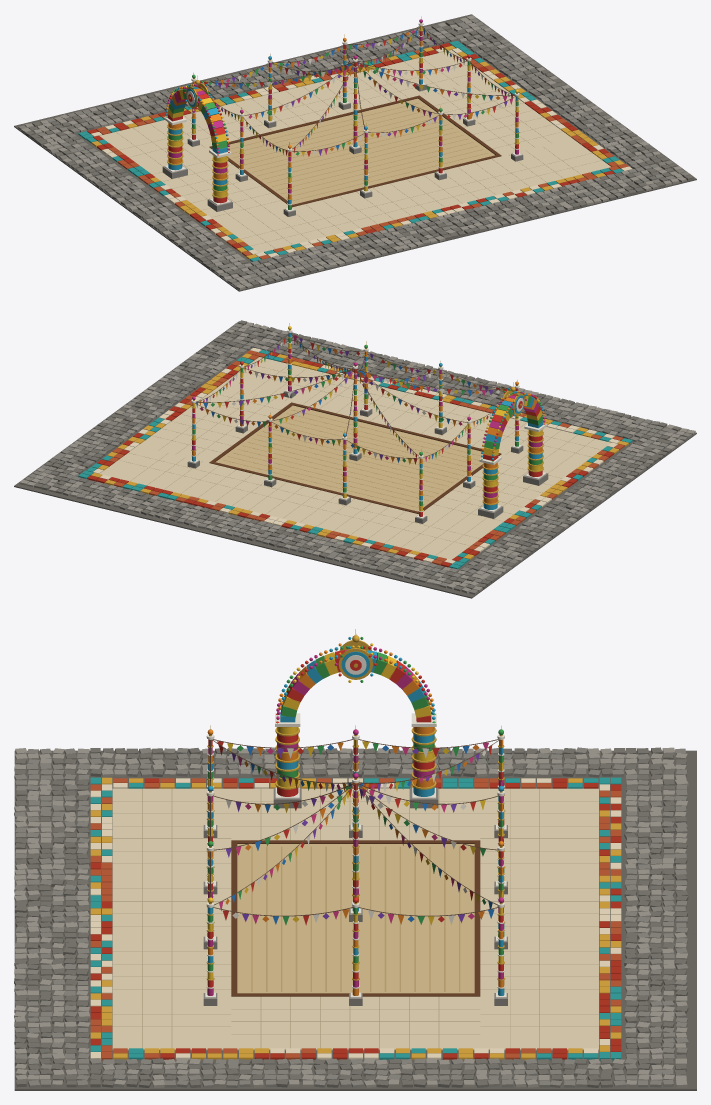
Rendered from plaza-baile-carnaval.glb.
3 views of the same model, one above another, from view 1: azimuth 30°, elevation 25°; view 2: azimuth 150°, elevation 25°; view 3: azimuth 270°, elevation 25° (orthographic). The views are drawn at different scales.
Visible parts, largest first — view 1: Plaza_Baile_Carnaval_BaldosaCrema, Plaza_Baile_Carnaval_Arena, Plaza_Baile_Carnaval_AdoquinGris2, Plaza_Baile_Carnaval_AdoquinGris1, Plaza_Baile_Carnaval_AdoquinGris3, Plaza_Baile_Carnaval_BaseOscura, Plaza_Baile_Carnaval_JuntaBaldosa, Plaza_Baile_Carnaval_ArenaSurco, Plaza_Baile_Carnaval_LadrilloMostaza, Plaza_Baile_Carnaval_LadrilloTurquesa, Plaza_Baile_Carnaval_LadrilloCrema, Plaza_Baile_Carnaval_LadrilloTerracota (+19 smaller); view 2: Plaza_Baile_Carnaval_BaldosaCrema, Plaza_Baile_Carnaval_Arena, Plaza_Baile_Carnaval_AdoquinGris1, Plaza_Baile_Carnaval_AdoquinGris2, Plaza_Baile_Carnaval_AdoquinGris3, Plaza_Baile_Carnaval_BaseOscura, Plaza_Baile_Carnaval_JuntaBaldosa, Plaza_Baile_Carnaval_ArenaSurco, Plaza_Baile_Carnaval_LadrilloMostaza, Plaza_Baile_Carnaval_LadrilloTurquesa, Plaza_Baile_Carnaval_LadrilloRojo, Plaza_Baile_Carnaval_LadrilloTerracota (+17 smaller); view 3: Plaza_Baile_Carnaval_BaldosaCrema, Plaza_Baile_Carnaval_Arena, Plaza_Baile_Carnaval_AdoquinGris1, Plaza_Baile_Carnaval_AdoquinGris2, Plaza_Baile_Carnaval_AdoquinGris3, Plaza_Baile_Carnaval_BaseOscura, Plaza_Baile_Carnaval_JuntaBaldosa, Plaza_Baile_Carnaval_LadrilloMostaza, Plaza_Baile_Carnaval_LadrilloTurquesa, Plaza_Baile_Carnaval_LadrilloTerracota, Plaza_Baile_Carnaval_LadrilloCrema, Plaza_Baile_Carnaval_LadrilloRojo (+17 smaller).
Part boxes in pixels (x1=…): Plaza_Baile_Carnaval_BaldosaCrema: x1=100, y1=50, x2=610, y2=252; Plaza_Baile_Carnaval_Arena: x1=227, y1=98, x2=494, y2=204; Plaza_Baile_Carnaval_AdoquinGris2: x1=25, y1=19, x2=693, y2=286; Plaza_Baile_Carnaval_AdoquinGris1: x1=18, y1=19, x2=690, y2=286; Plaza_Baile_Carnaval_AdoquinGris3: x1=21, y1=15, x2=686, y2=290; Plaza_Baile_Carnaval_BaseOscura: x1=14, y1=14, x2=696, y2=291; Plaza_Baile_Carnaval_JuntaBaldosa: x1=116, y1=59, x2=601, y2=248; Plaza_Baile_Carnaval_ArenaSurco: x1=230, y1=103, x2=487, y2=200; Plaza_Baile_Carnaval_LadrilloMostaza: x1=91, y1=45, x2=624, y2=259; Plaza_Baile_Carnaval_LadrilloTurquesa: x1=78, y1=40, x2=623, y2=261; Plaza_Baile_Carnaval_LadrilloCrema: x1=91, y1=48, x2=632, y2=257; Plaza_Baile_Carnaval_LadrilloTerracota: x1=96, y1=50, x2=628, y2=259; Plaza_Baile_Carnaval_BaldosaCrema: x1=100, y1=357, x2=611, y2=559; Plaza_Baile_Carnaval_Arena: x1=215, y1=405, x2=483, y2=511; Plaza_Baile_Carnaval_AdoquinGris1: x1=25, y1=323, x2=691, y2=594; Plaza_Baile_Carnaval_AdoquinGris2: x1=34, y1=320, x2=681, y2=591; Plaza_Baile_Carnaval_AdoquinGris3: x1=19, y1=322, x2=695, y2=593; Plaza_Baile_Carnaval_BaseOscura: x1=14, y1=321, x2=696, y2=598; Plaza_Baile_Carnaval_JuntaBaldosa: x1=120, y1=364, x2=601, y2=555; Plaza_Baile_Carnaval_ArenaSurco: x1=223, y1=409, x2=480, y2=507; Plaza_Baile_Carnaval_LadrilloMostaza: x1=91, y1=353, x2=628, y2=559; Plaza_Baile_Carnaval_LadrilloTurquesa: x1=78, y1=350, x2=632, y2=569; Plaza_Baile_Carnaval_LadrilloRojo: x1=87, y1=352, x2=613, y2=567; Plaza_Baile_Carnaval_LadrilloTerracota: x1=108, y1=350, x2=624, y2=565; Plaza_Baile_Carnaval_BaldosaCrema: x1=112, y1=788, x2=598, y2=1050; Plaza_Baile_Carnaval_Arena: x1=237, y1=844, x2=474, y2=993; Plaza_Baile_Carnaval_AdoquinGris1: x1=14, y1=747, x2=688, y2=1088; Plaza_Baile_Carnaval_AdoquinGris2: x1=14, y1=747, x2=688, y2=1087; Plaza_Baile_Carnaval_AdoquinGris3: x1=14, y1=747, x2=688, y2=1087; Plaza_Baile_Carnaval_BaseOscura: x1=14, y1=750, x2=696, y2=1090; Plaza_Baile_Carnaval_JuntaBaldosa: x1=113, y1=788, x2=598, y2=1049; Plaza_Baile_Carnaval_LadrilloMostaza: x1=90, y1=777, x2=621, y2=1059; Plaza_Baile_Carnaval_LadrilloTurquesa: x1=90, y1=777, x2=621, y2=1060; Plaza_Baile_Carnaval_LadrilloTerracota: x1=90, y1=778, x2=621, y2=1060; Plaza_Baile_Carnaval_LadrilloCrema: x1=90, y1=778, x2=621, y2=1060; Plaza_Baile_Carnaval_LadrilloRojo: x1=90, y1=778, x2=621, y2=1059.
Size of the model in its own units: 27.05 by 6.62 by 23.03.
